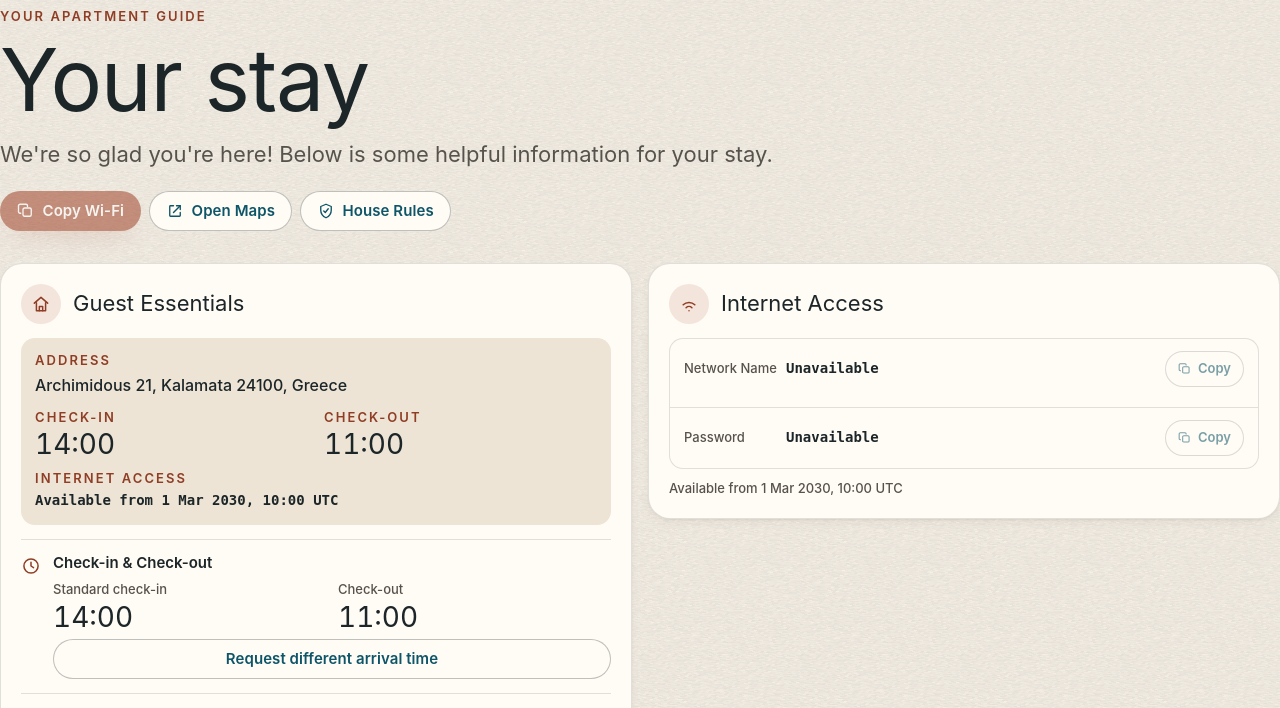
Scenario: check-in Wi-Fi refetch at the disclosure time › keeps the text of an arrival request form that is open across the disclosure time
Expected: the text "14:00" below "Archimidous 21, Kalamata 24100, Greece" is shown, [35,427,115,461]
Click the button "Request different arrival time" at point(332, 659), box [53,639,611,679]
(page scrolled)
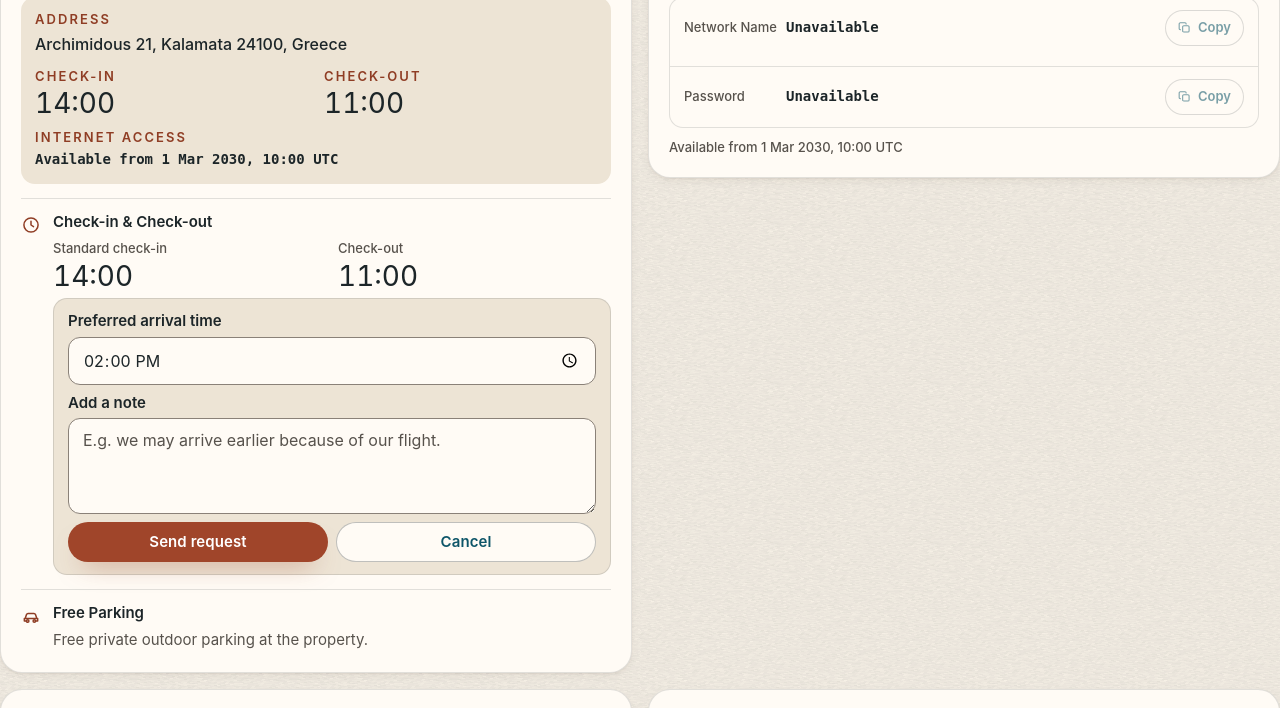
Replace the text in the time field labelled "Preferred arrival time" with "17:30" at point(332, 361), box [68,337,596,385]
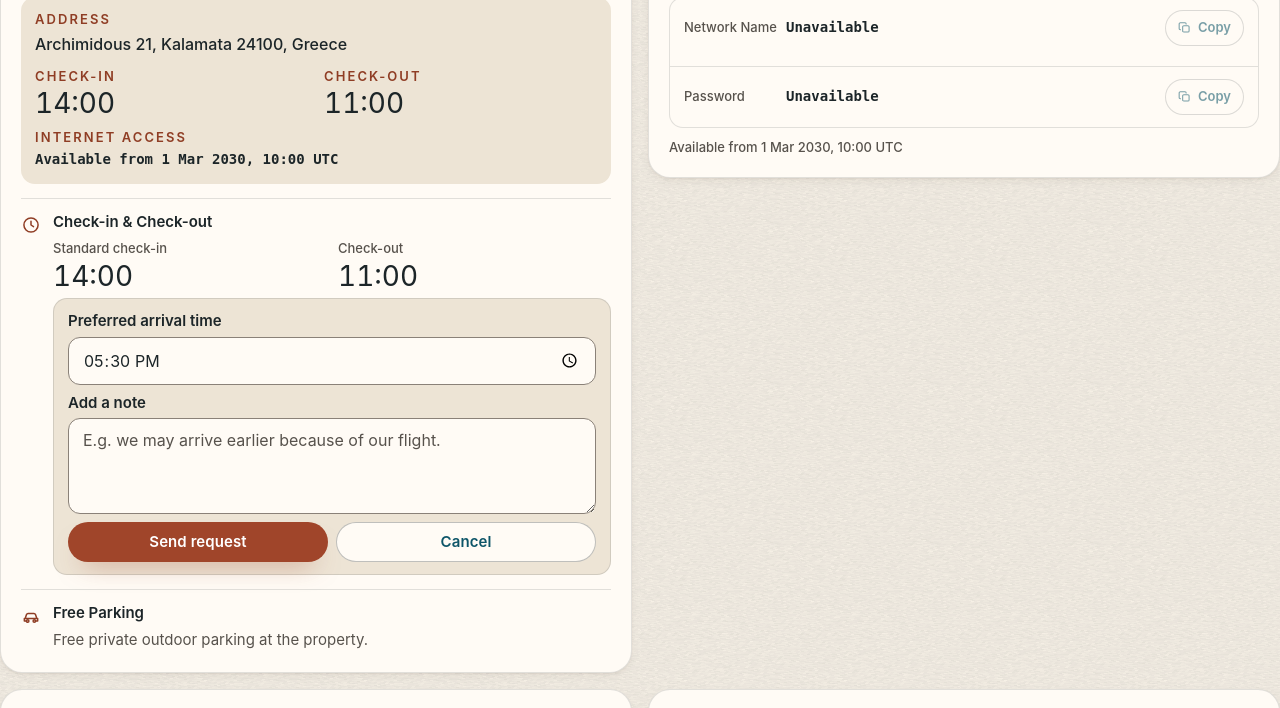
Type "Flight lands late" into the text box labelled "Add a note" at point(332, 466), box [68,418,596,514]
Wait 6000 ms
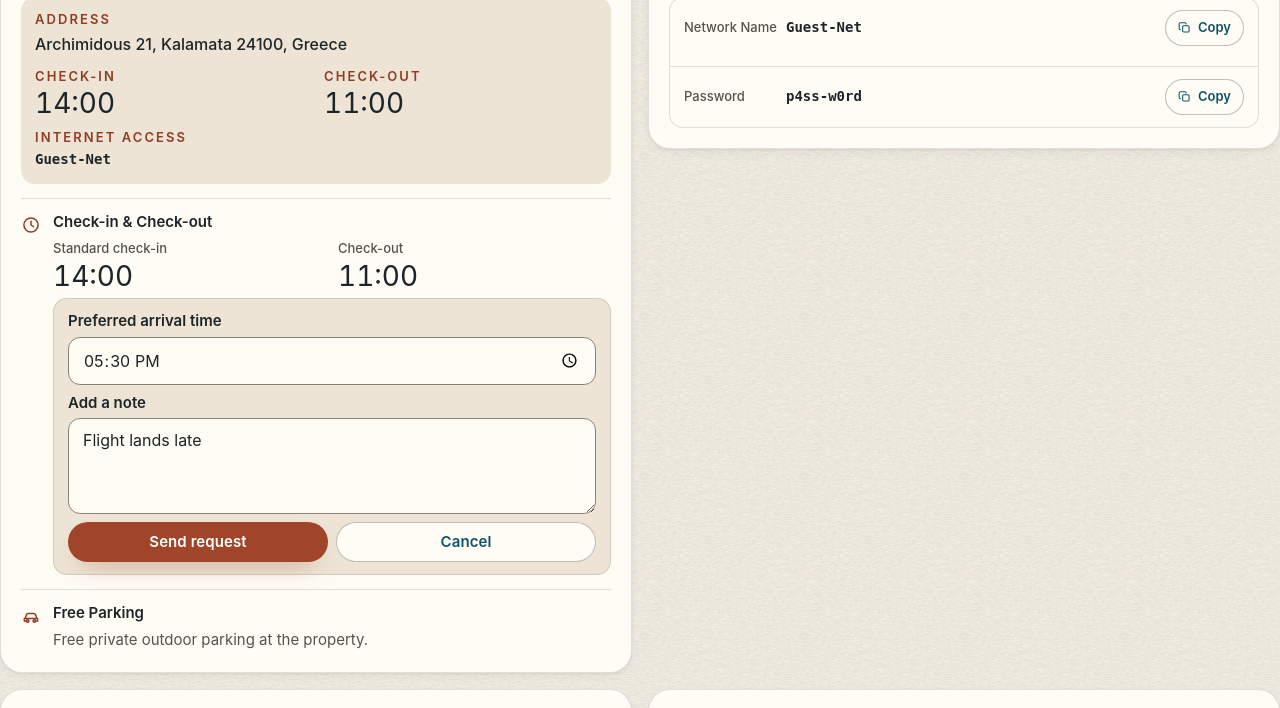
Result: the button "Send request" is shown at [68,522,328,562]
Result: the text "Guest-Net" below "Archimidous 21, Kalamata 24100, Greece" is shown at [35,152,111,168]
